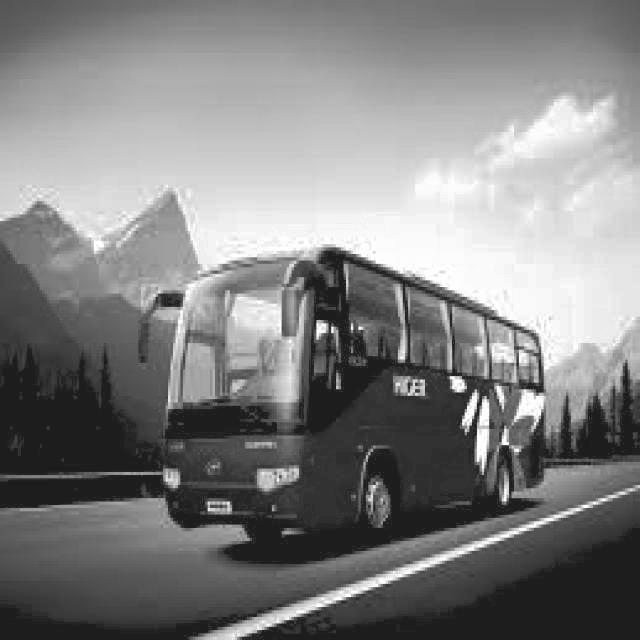Bus: (132, 240, 574, 546)
